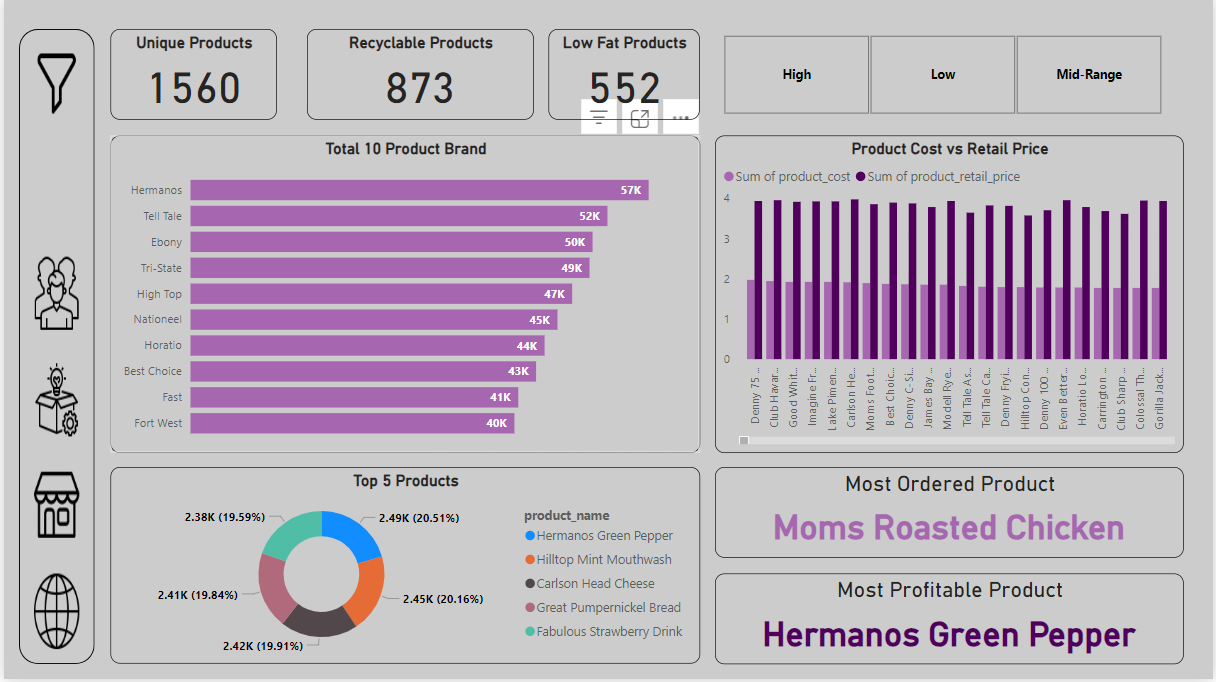

The dashboard page shown, as its layout file describes it:
{"tool":"powerbi","page":{"name":"Product","canvas":[1280,720],"ordinal":2},"visuals":[{"type":"donutChart","title":"Top 5 Products","fields":{"Y":["Measure Table.Total Revenue"],"Category":["Products.product_name"]},"box":[112,496,624,208],"z":0},{"type":"barChart","title":"Total 10 Product Brand","fields":{"Category":["Products.product_brand"],"Y":["Measure Table.Total Revenue"]},"box":[112,144,624,336],"z":1000},{"type":"clusteredColumnChart","title":"Product Cost vs Retail Price","fields":{"Category":["Products.product_name"],"Y":["Sum(Products.product_cost)","Sum(Products.product_retail_price)"]},"box":[752,144,496,336],"z":2000},{"type":"slicer","fields":{"Values":["Products.Price Point"]},"box":[736,32,512,96],"z":3000},{"type":"card","title":"Unique Products","fields":{"Values":["Measure Table.Unique Products"]},"box":[112,32,176,96],"z":4000},{"type":"card","title":"Most Ordered Product","fields":{"Values":["Min(Products.product_name)"]},"box":[752,496,496,96],"z":5000},{"type":"card","title":"Most Profitable Product","fields":{"Values":["Min(Products.product_name)"]},"box":[752,608,496,96],"z":6000},{"type":"shape","box":[16,32,80,672],"z":7000},{"type":"actionButton","box":[32,48,48,80],"z":8000},{"type":"actionButton","box":[32,272,48,80],"z":9000},{"type":"actionButton","box":[32,496,48,80],"z":10000},{"type":"actionButton","box":[32,608,48,80],"z":11000},{"type":"actionButton","box":[32,384,48,80],"z":12000},{"type":"card","title":"Recyclable Products","fields":{"Values":["Sum(Products.recyclable)"]},"box":[320,32,240,96],"z":13000},{"type":"card","title":"Low Fat Products","fields":{"Values":["Sum(Products.low_fat)"]},"box":[576,32,160,96],"z":14000}]}

Visuals, with their boxes in screenshot pixels (x1, y1, x2, y2), scaled from the page's 1280x720 canvas onto the 1216x682 screenshot:
"Top 5 Products" donutChart: box(106, 470, 699, 667)
"Total 10 Product Brand" barChart: box(106, 136, 699, 455)
"Product Cost vs Retail Price" clusteredColumnChart: box(714, 136, 1186, 455)
slicer - Products.Price Point: box(699, 30, 1186, 121)
"Unique Products" card: box(106, 30, 274, 121)
"Most Ordered Product" card: box(714, 470, 1186, 561)
"Most Profitable Product" card: box(714, 576, 1186, 667)
shape: box(15, 30, 91, 667)
actionButton: box(30, 45, 76, 121)
actionButton: box(30, 258, 76, 333)
actionButton: box(30, 470, 76, 546)
actionButton: box(30, 576, 76, 652)
actionButton: box(30, 364, 76, 440)
"Recyclable Products" card: box(304, 30, 532, 121)
"Low Fat Products" card: box(547, 30, 699, 121)
